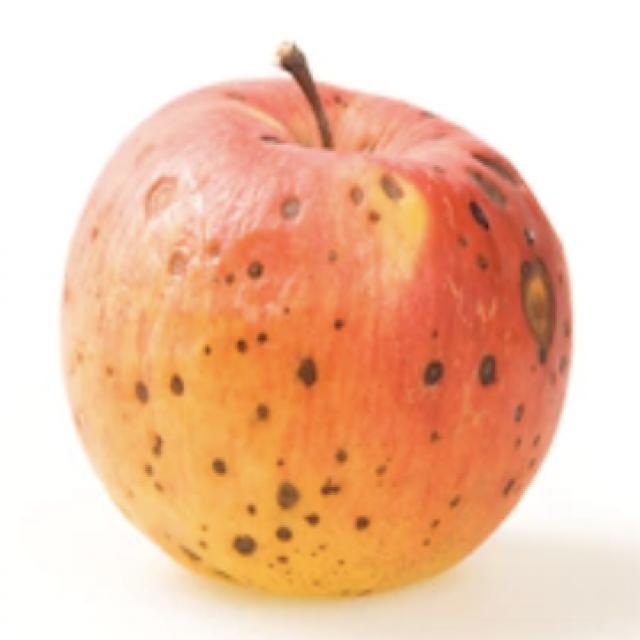Rotten: (68, 90, 545, 598)
